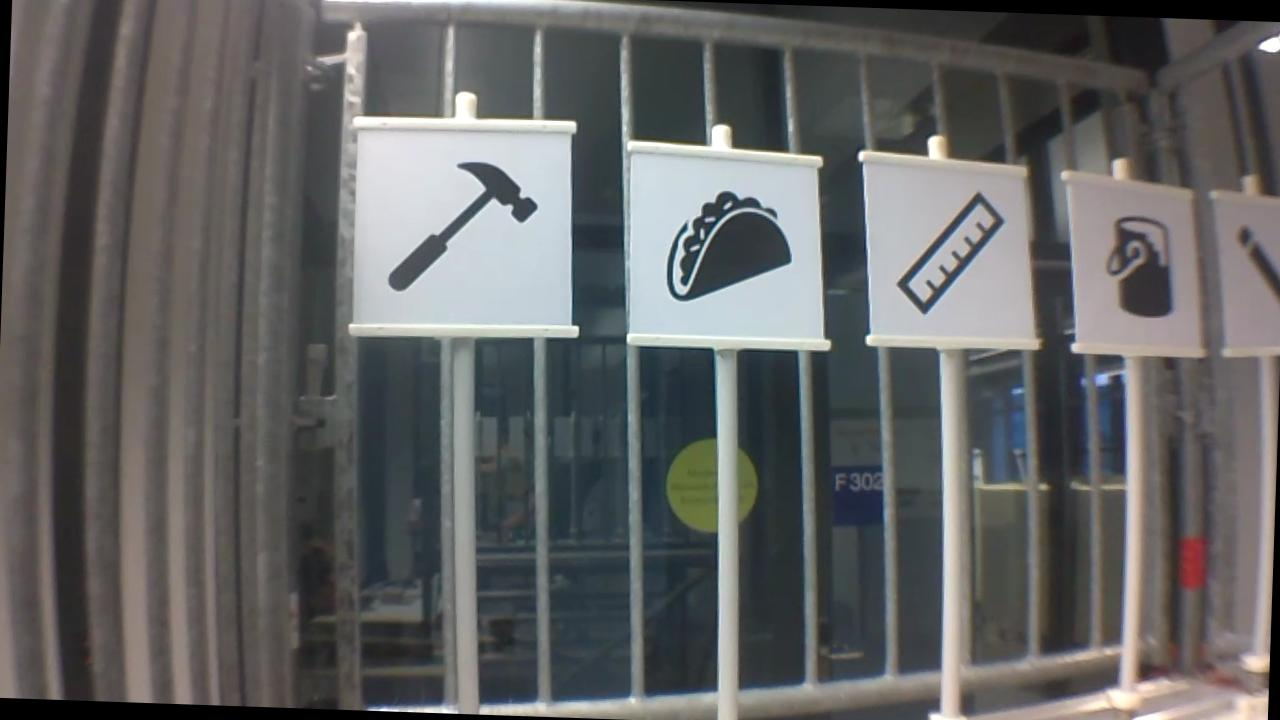bucket: (1097, 213, 1181, 320)
hammer: (381, 151, 544, 302)
pencil: (1227, 215, 1280, 311)
ruler: (886, 180, 1011, 322)
taco: (657, 182, 798, 308)
